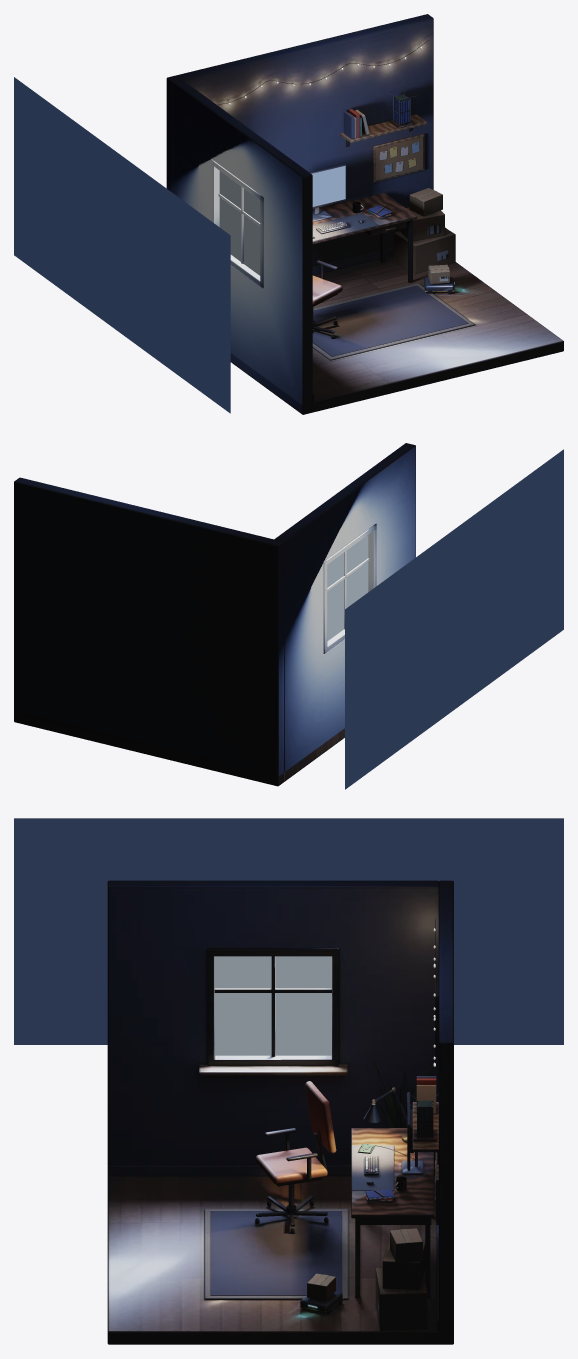
File: room-1k.glb
The picture shows the model from 3 angles, top to bottom: view 1: azimuth 30°, elevation 25°; view 2: azimuth 150°, elevation 25°; view 3: azimuth 270°, elevation 25°; orthographic projection. The views are drawn at different scales.
Parts seen in each view (by area): view 1: room_static, SKY, desk_static, HS_amazon_desk, GLASS, HS_pinboard_desk, HS_window_room, SCREEN, HS_cubesat_small; view 2: room_static, SKY, GLASS, HS_window_room; view 3: room_static, SKY, GLASS, desk_static, HS_window_room, HS_amazon_desk, HS_cubesat_small, HS_screen_desk.
Boxes of the visible parts, x1=… form: room_static: x1=166, y1=14, x2=563, y2=414; SKY: x1=14, y1=77, x2=230, y2=413; desk_static: x1=312, y1=109, x2=426, y2=282; HS_amazon_desk: x1=394, y1=188, x2=455, y2=294; GLASS: x1=219, y1=171, x2=260, y2=275; HS_pinboard_desk: x1=372, y1=134, x2=424, y2=182; HS_window_room: x1=211, y1=159, x2=263, y2=288; SCREEN: x1=312, y1=165, x2=345, y2=206; HS_cubesat_small: x1=387, y1=90, x2=417, y2=128; room_static: x1=14, y1=443, x2=415, y2=786; SKY: x1=345, y1=449, x2=563, y2=789; GLASS: x1=327, y1=535, x2=368, y2=641; HS_window_room: x1=323, y1=524, x2=376, y2=653; room_static: x1=107, y1=880, x2=453, y2=1344; SKY: x1=14, y1=818, x2=563, y2=1044; GLASS: x1=214, y1=956, x2=331, y2=1055; desk_static: x1=351, y1=1076, x2=438, y2=1297; HS_window_room: x1=199, y1=948, x2=347, y2=1075; HS_amazon_desk: x1=299, y1=1228, x2=427, y2=1330; HS_cubesat_small: x1=410, y1=1094, x2=438, y2=1141; HS_screen_desk: x1=402, y1=1092, x2=423, y2=1174.
Bounding box in the file's own units: 4.35 × 2.67 × 4.4.
Materials: 6 (3 with a texture image).
